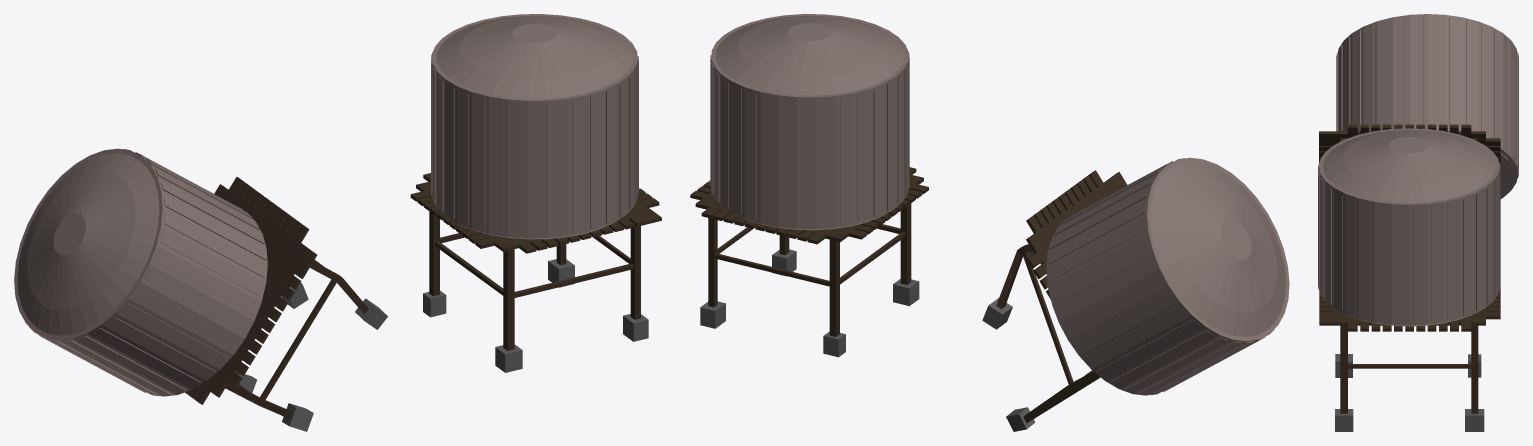
Rendered from Almacen de agua.fbx.
3 renders of one model, left to right at view 1: azimuth 30°, elevation 25°; view 2: azimuth 150°, elevation 25°; view 3: azimuth 270°, elevation 25°, orthographic. The views are drawn at different scales.
Visible parts, largest first — view 1: Torre de Agua Rota, Torre de Agua; view 2: Torre de Agua, Torre de Agua Rota; view 3: Torre de Agua, Torre de Agua Rota.
Boxes of the visible parts, x1=… form: Torre de Agua Rota: x1=14, y1=148, x2=387, y2=431; Torre de Agua: x1=410, y1=14, x2=661, y2=372; Torre de Agua: x1=690, y1=14, x2=928, y2=357; Torre de Agua Rota: x1=982, y1=157, x2=1289, y2=431; Torre de Agua: x1=1318, y1=128, x2=1500, y2=431; Torre de Agua Rota: x1=1319, y1=14, x2=1518, y2=198.
Size of the model in its own units: 15340 by 8278 by 5241.
